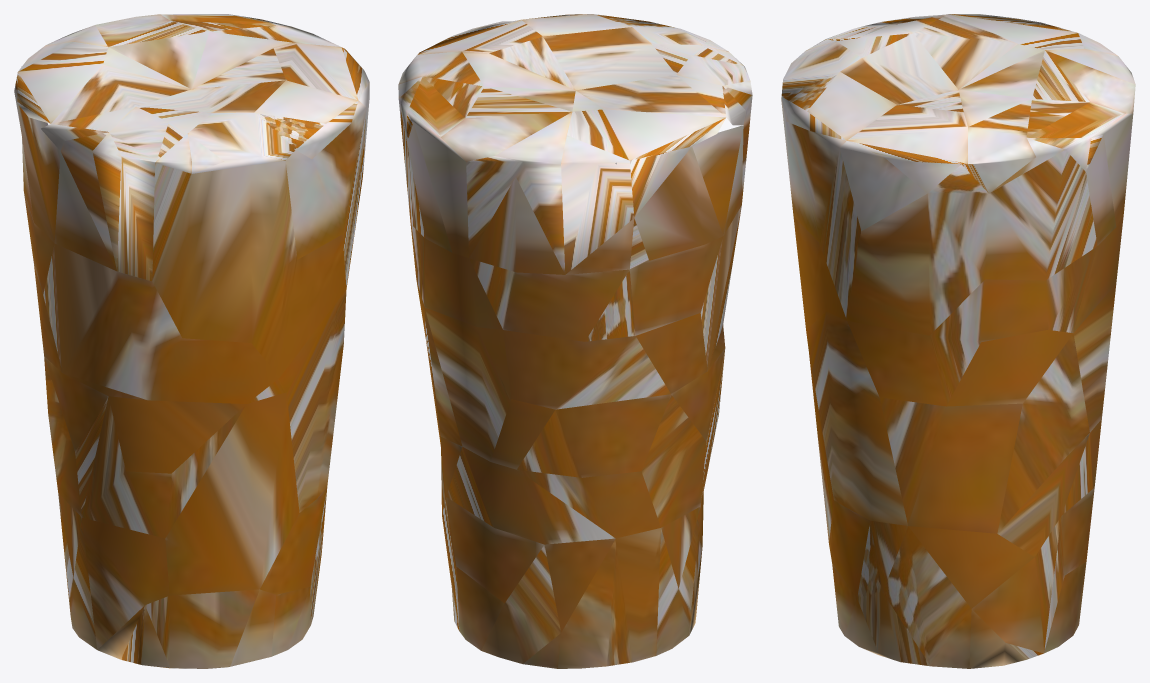
File: copo-decor.glb
The picture shows the model from 3 angles, left to right: view 1: azimuth 30°, elevation 25°; view 2: azimuth 150°, elevation 25°; view 3: azimuth 270°, elevation 25°; orthographic projection.
Visible parts, largest first — view 1: Copo americano; view 2: Copo americano; view 3: Copo americano.
Part boxes in pixels (x1,y1,x2,y2): Copo americano: (14, 14, 369, 668); Copo americano: (398, 14, 752, 668); Copo americano: (781, 14, 1135, 668).
Bounding box in the file's own units: 0.0546 × 0.0926 × 0.0542.
Materials: 1 (1 with a texture image).
